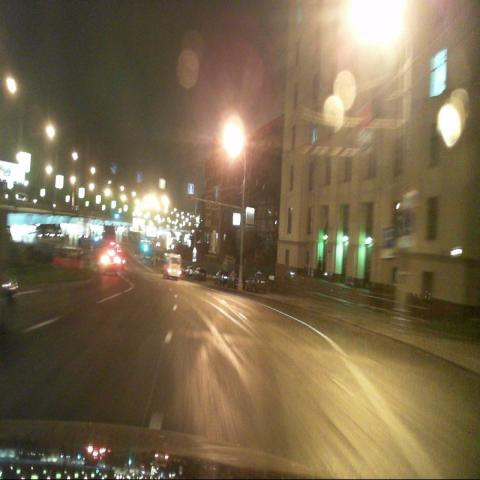6_4: (383, 227, 394, 247)
